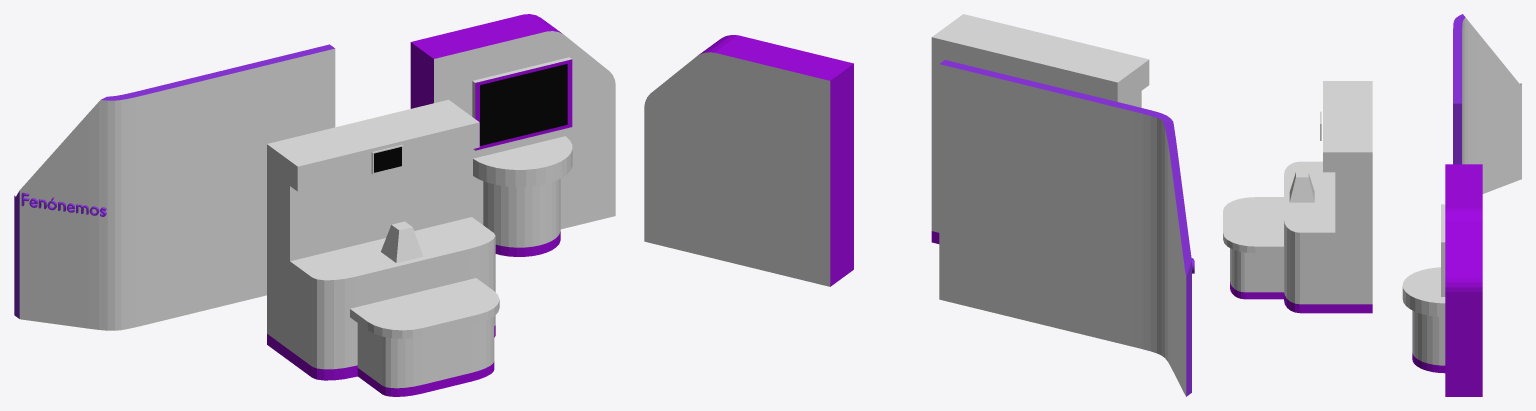
Rendered from Exploracion.dae.
3 views of the same model, side by side, from view 1: azimuth 30°, elevation 25°; view 2: azimuth 150°, elevation 25°; view 3: azimuth 270°, elevation 25° (orthographic). The views are drawn at different scales.
Parts seen in each view (by area): view 1: Cube.005, Cube, Cube.003, Cube.001, Cube.004, Cube.002, Text.001; view 2: Cube.005, Cube.003, Cube; view 3: Cube, Cube.003, Cube.005, Cube.004, Cube.001.
Boxes of the visible parts, x1,y1,x2,y2 form: Cube.005: (14,44,335,330); Cube: (267,99,499,396); Cube.003: (410,14,615,256); Cube.001: (472,57,572,150); Cube.004: (381,221,423,263); Cube.002: (371,144,403,174); Text.001: (21,192,106,216); Cube.005: (939,60,1191,396); Cube.003: (644,35,853,286); Cube: (931,14,1149,243); Cube: (1223,81,1372,313); Cube.003: (1402,164,1482,396); Cube.005: (1453,14,1521,193); Cube.004: (1289,172,1314,202); Cube.001: (1441,204,1445,296).
Bounding box in the file's own units: 20.76 × 12.07 × 8.27.
